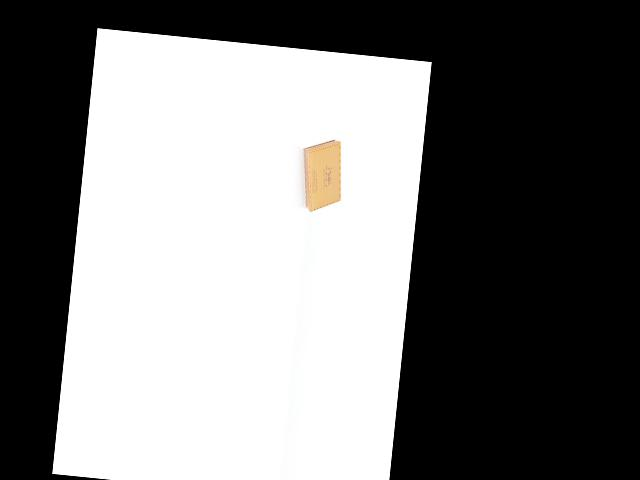chocolate: (291, 134, 349, 214)
